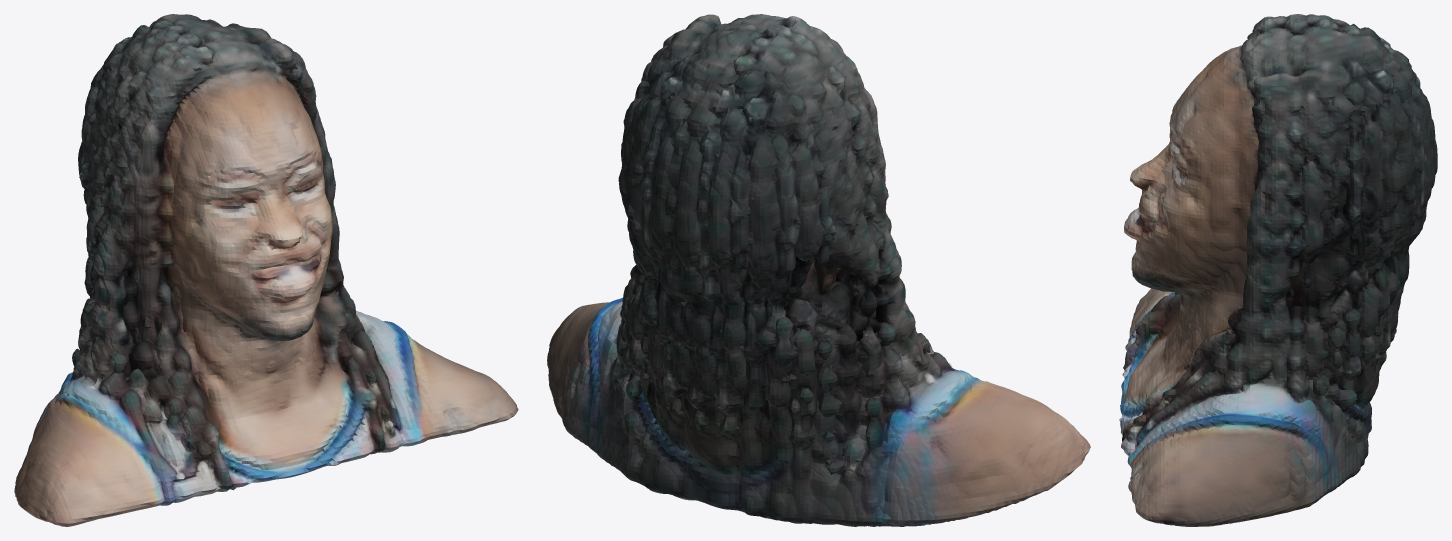
3 renders of one model, left to right at view 1: azimuth 30°, elevation 25°; view 2: azimuth 150°, elevation 25°; view 3: azimuth 270°, elevation 25°, orthographic. The views are drawn at different scales.
Parts seen in each view (by area): view 1: geometry_0; view 2: geometry_0; view 3: geometry_0.
Boxes of the visible parts, x1,y1,x2,y2 form: geometry_0: (14, 14, 518, 526); geometry_0: (547, 14, 1090, 526); geometry_0: (1119, 14, 1437, 526).
Size of the model in its own units: 0.9917 by 0.8339 by 0.5861.
